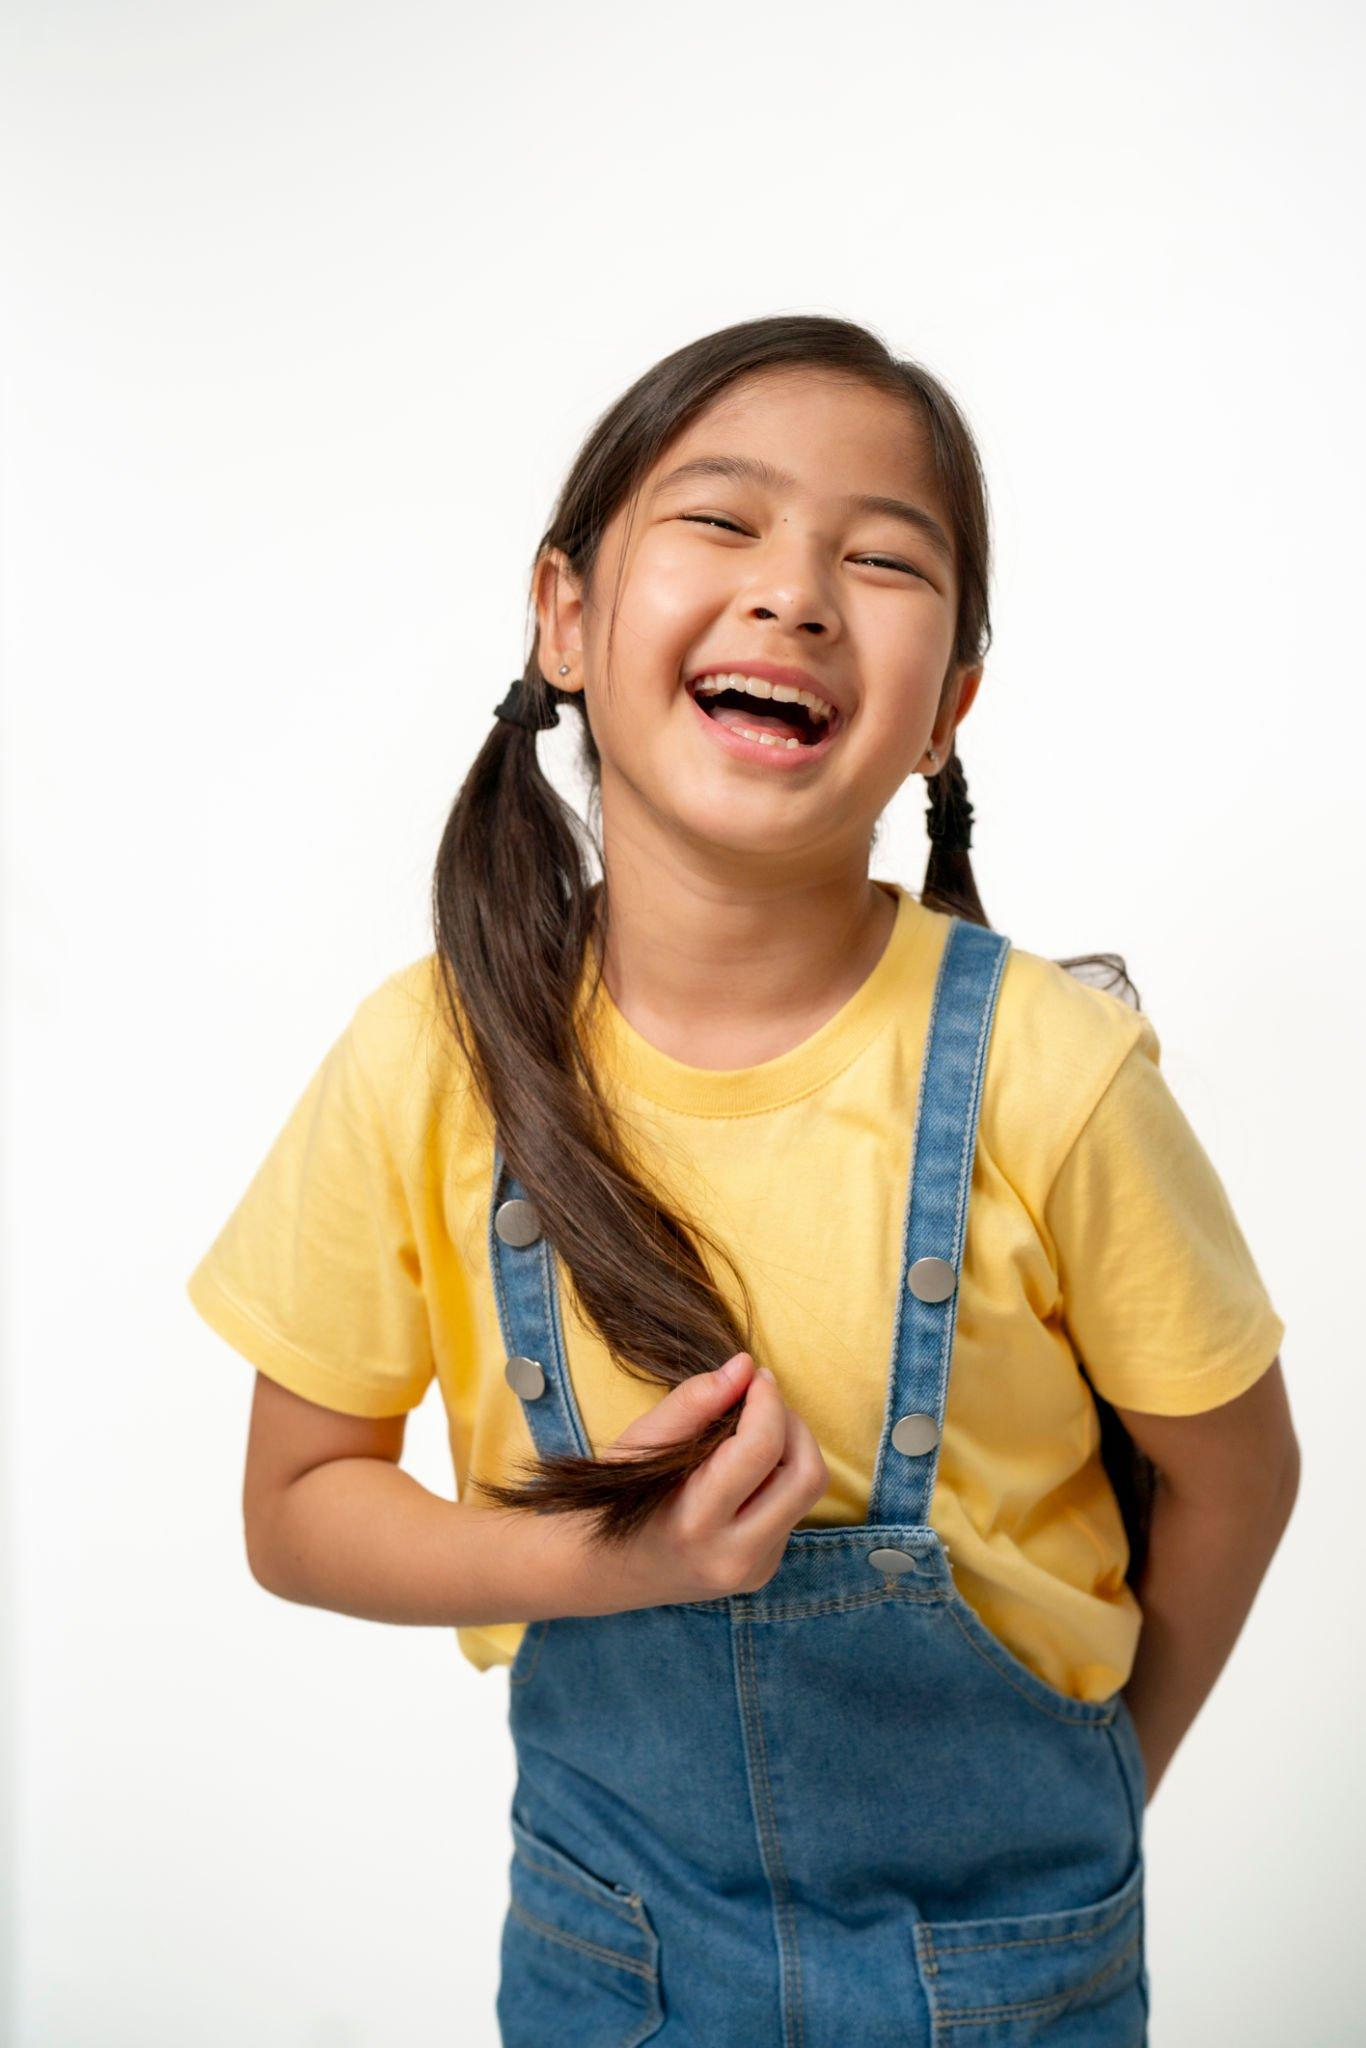Healthy: (556, 322, 1012, 926)
